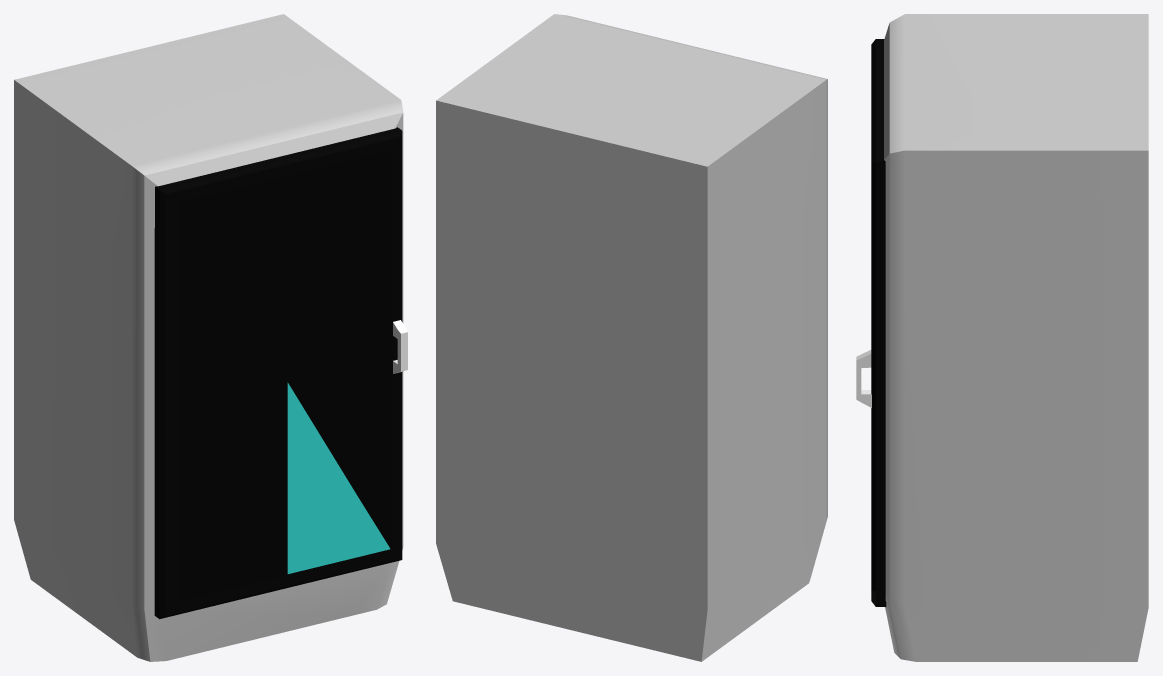
The model's file is Fridge.fbx.
3 renders of one model, left to right at view 1: azimuth 30°, elevation 25°; view 2: azimuth 150°, elevation 25°; view 3: azimuth 270°, elevation 25°, orthographic. The views are drawn at different scales.
Visible parts, largest first — view 1: case1, doorframe, glass1, handle; view 2: case1; view 3: case1, doorframe, handle.
Part boxes in pixels (x1,y1,x2,y2): case1: (14, 14, 403, 661); doorframe: (154, 127, 402, 619); glass1: (287, 382, 390, 573); handle: (393, 320, 407, 373); case1: (436, 14, 827, 661); case1: (884, 14, 1148, 661); doorframe: (871, 39, 886, 606); handle: (856, 350, 871, 407).
Size of the model in its own units: 23.92 by 42.26 by 21.66.
